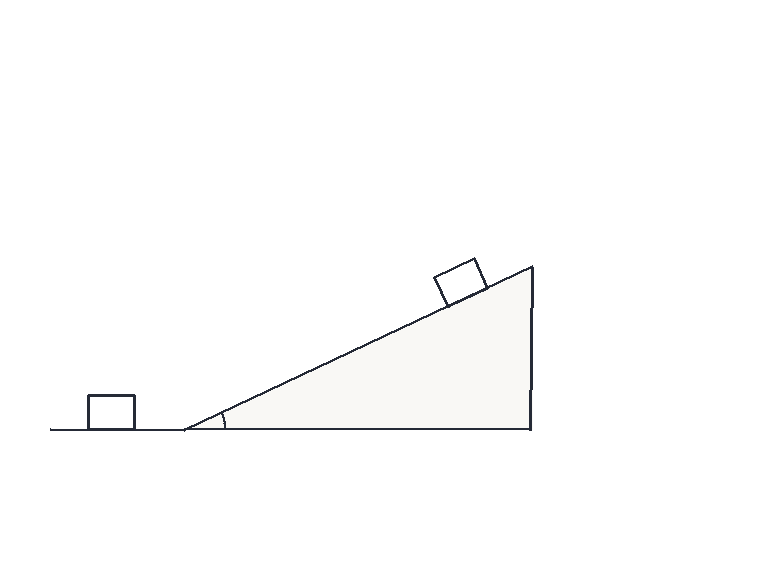block: (432, 257, 490, 308), (86, 393, 136, 431)
ramp: (183, 265, 534, 431)
